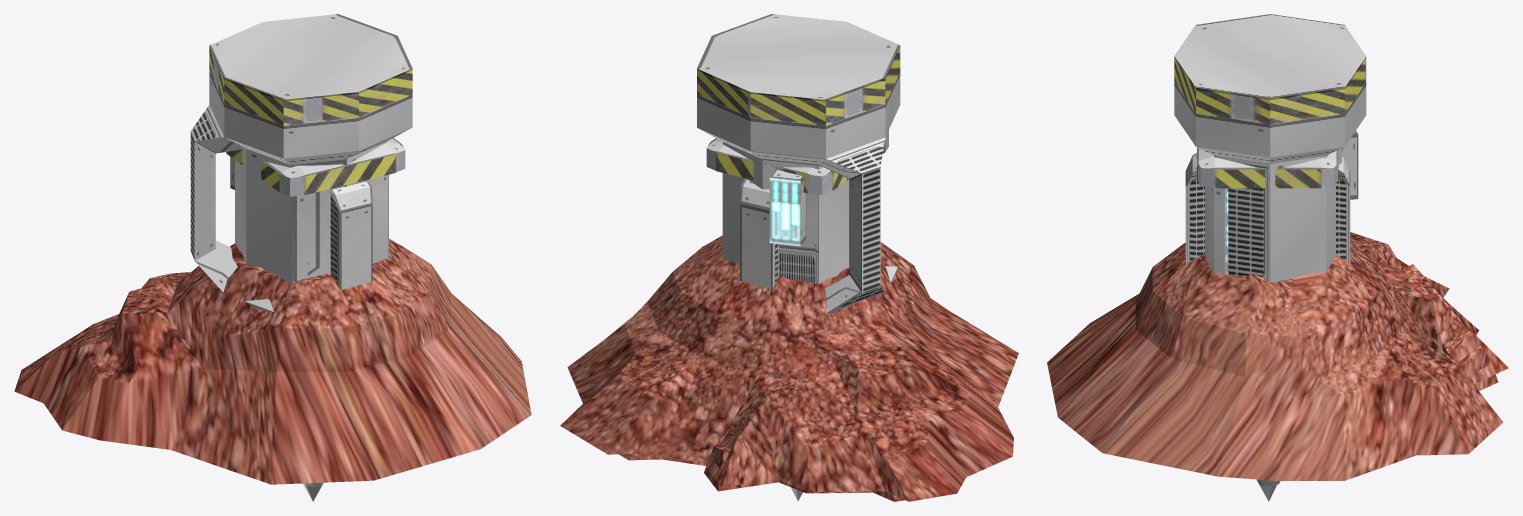
The model's file is cristalbot_acessorios.glb.
3 views of the same model, side by side, from view 1: azimuth 30°, elevation 25°; view 2: azimuth 150°, elevation 25°; view 3: azimuth 270°, elevation 25° (orthographic).
Parts seen in each view (by area): view 1: minafechado, tambor, furadeira; view 2: minafechado, tambor, furadeira, minaburaco; view 3: minafechado, tambor, furadeira, minaburaco.
Part boxes in pixels (box(x1,y1,x2,y2)): minafechado: box(14, 238, 531, 484); tambor: box(190, 14, 412, 311); furadeira: box(226, 138, 405, 289); minafechado: box(560, 235, 1018, 501); tambor: box(697, 14, 900, 314); furadeira: box(706, 130, 888, 289); minaburaco: box(619, 438, 904, 501); minafechado: box(1047, 232, 1508, 480); tambor: box(1174, 14, 1366, 281); furadeira: box(1185, 147, 1350, 273); minaburaco: box(1421, 329, 1498, 390).
Size of the model in its own units: 5.78 by 5.77 by 5.43.
3 materials, 3 textured.
